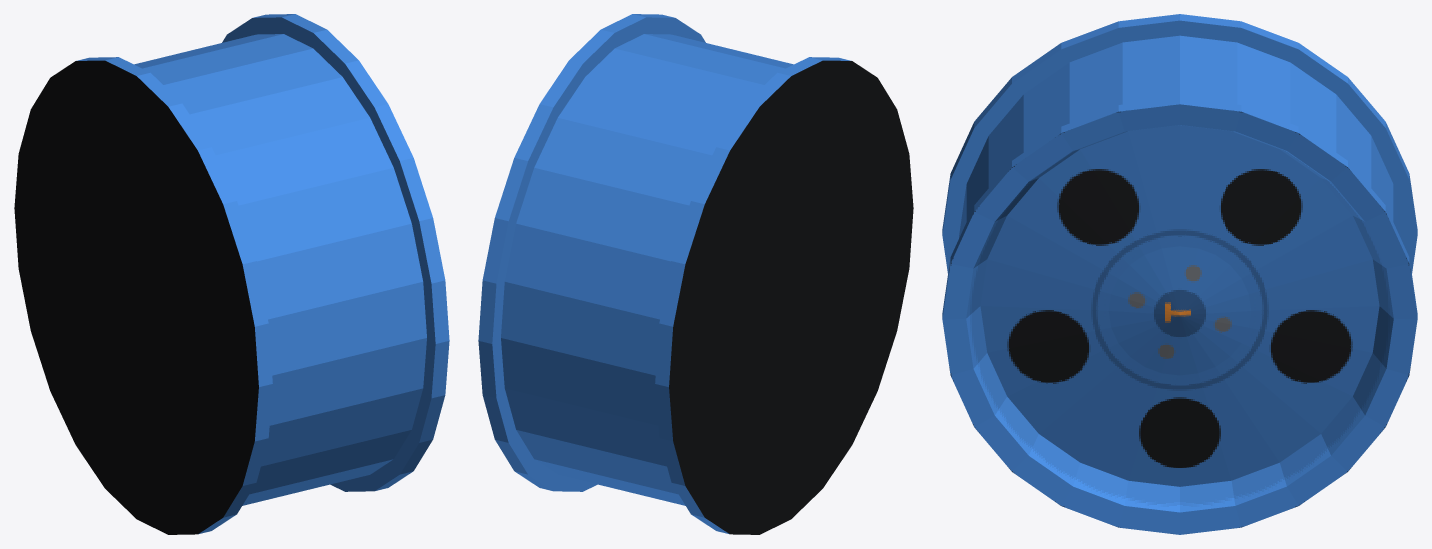
File: tiziu_vazada_15.glb
The picture shows the model from 3 angles, left to right: view 1: azimuth 30°, elevation 25°; view 2: azimuth 150°, elevation 25°; view 3: azimuth 270°, elevation 25°; orthographic projection. The views are drawn at different scales.
Parts seen in each view (by area): view 1: tiziu_vazada_15; view 2: tiziu_vazada_15; view 3: tiziu_vazada_15.
Part boxes in pixels (bbox=[...]): tiziu_vazada_15: bbox=[14, 14, 449, 534]; tiziu_vazada_15: bbox=[478, 14, 913, 534]; tiziu_vazada_15: bbox=[942, 14, 1417, 534].
Size of the model in its own units: 0.192 by 0.4267 by 0.4267.
1 material, 1 textured.
